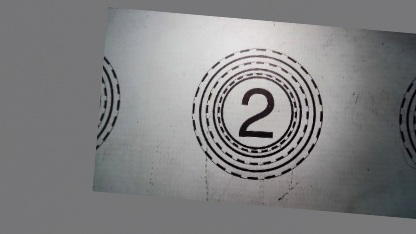2r: (183, 42, 329, 187)
